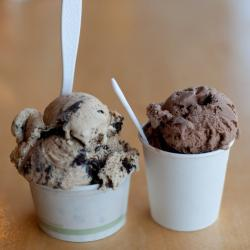icecream: (18, 95, 138, 187), (139, 79, 244, 154)
